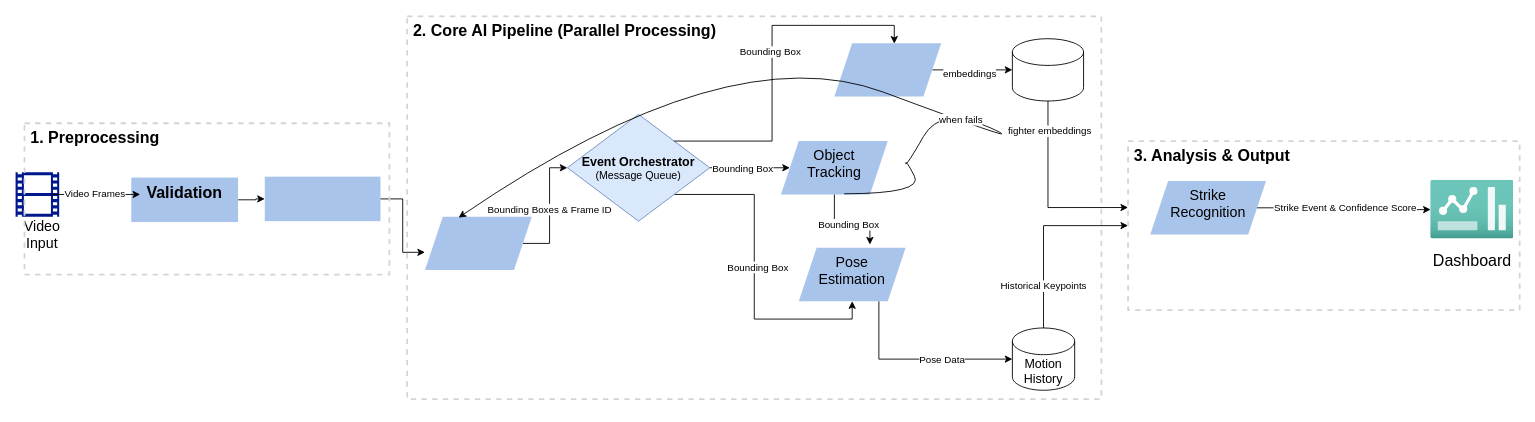
Some shapes in this 1535 by 422 pixel diagram are drawn without their labels. The shapes that lost their labels are listed below. From the top down, each one's centre as x and y in pixels, then its label:
[887,69]: Person Re-ID
[1047,69]: Feature Store
[322,198]: Compression
[478,243]: Object Detection
